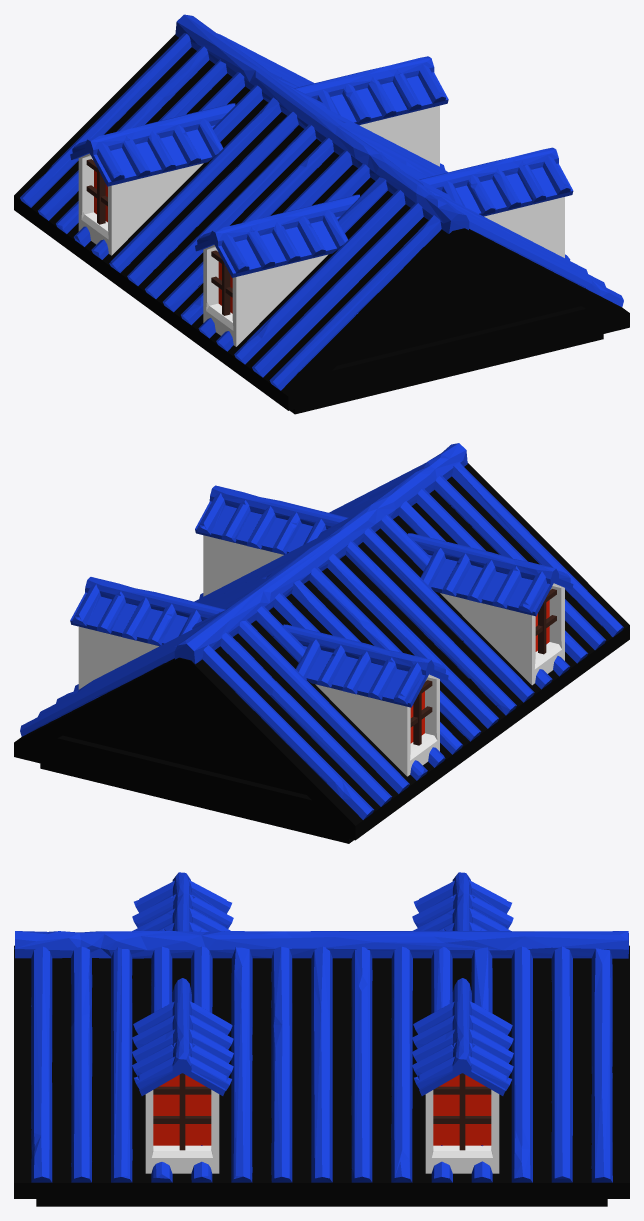
File: standard_rooftop_1.FBX
3 views of the same model, one above another, from view 1: azimuth 30°, elevation 25°; view 2: azimuth 150°, elevation 25°; view 3: azimuth 270°, elevation 25° (orthographic). The views are drawn at different scales.
Visible parts, largest first — view 1: standard_rooftop_1; view 2: standard_rooftop_1; view 3: standard_rooftop_1.
Part boxes in pixels (x1,y1,x2,y2): standard_rooftop_1: (14, 14, 629, 414); standard_rooftop_1: (14, 443, 629, 843); standard_rooftop_1: (14, 872, 629, 1206).
Size of the model in its own units: 535 by 248 by 725.
